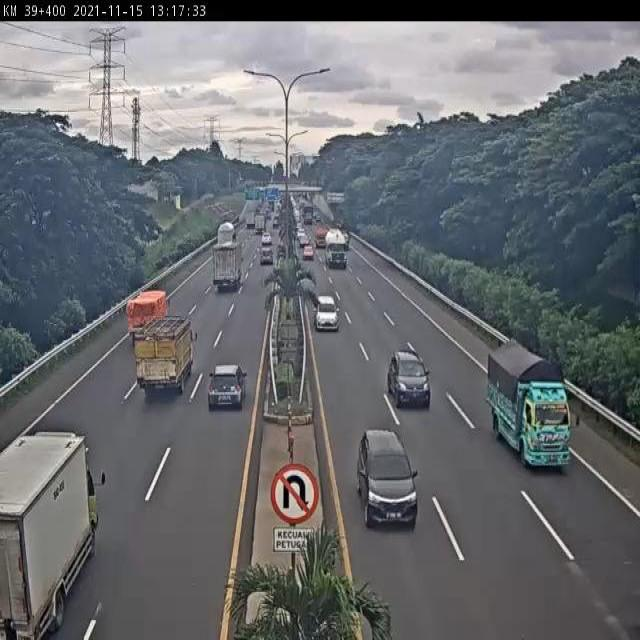car: (358, 426, 418, 530), (386, 349, 432, 414), (207, 362, 248, 410), (312, 293, 339, 335)
truck-l-: (323, 226, 350, 270)
truck-m-: (1, 430, 100, 640), (489, 337, 572, 472), (134, 315, 195, 397), (125, 290, 170, 350), (211, 242, 243, 294)
